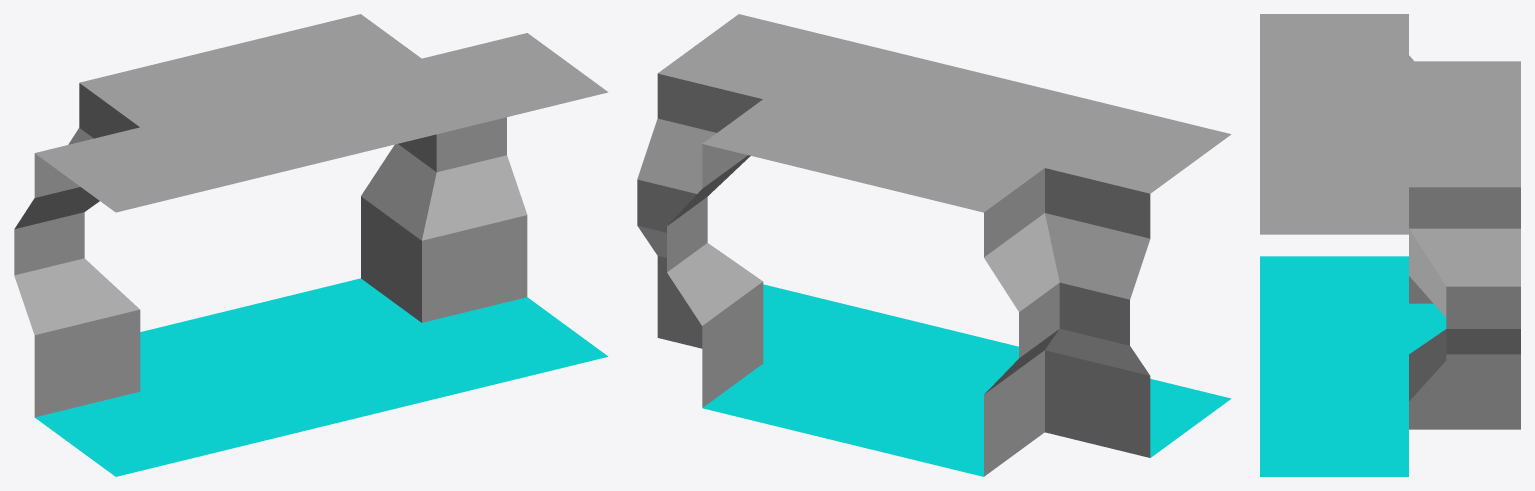
The model's file is sm_hallway_junction.fbx.
3 renders of one model, left to right at view 1: azimuth 30°, elevation 25°; view 2: azimuth 150°, elevation 25°; view 3: azimuth 270°, elevation 25°, orthographic. The views are drawn at different scales.
Parts seen in each view (by area): view 1: sm_hallway_junction; view 2: sm_hallway_junction; view 3: sm_hallway_junction.
Boxes of the visible parts, x1,y1,x2,y2 form: sm_hallway_junction: [14, 14, 608, 476]; sm_hallway_junction: [637, 14, 1231, 476]; sm_hallway_junction: [1260, 14, 1520, 476].
Size of the model in its own units: 14 by 7.17 by 7.
